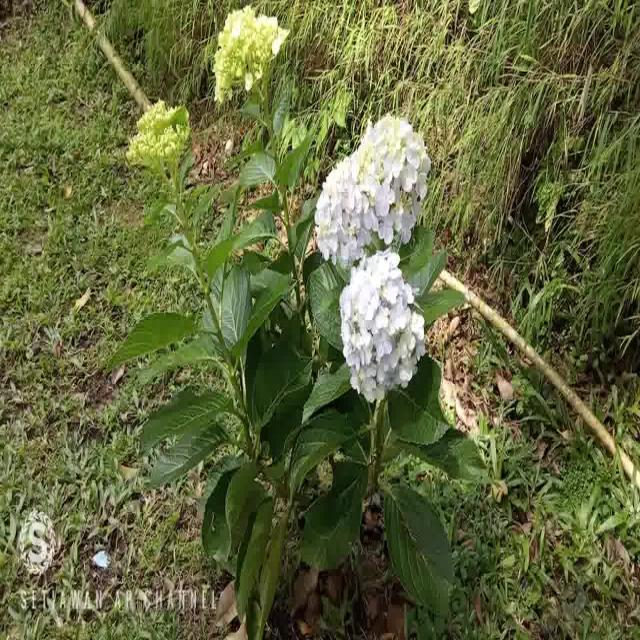Flower: (312, 115, 432, 262), (332, 248, 426, 408), (214, 2, 285, 115), (126, 98, 190, 181)
